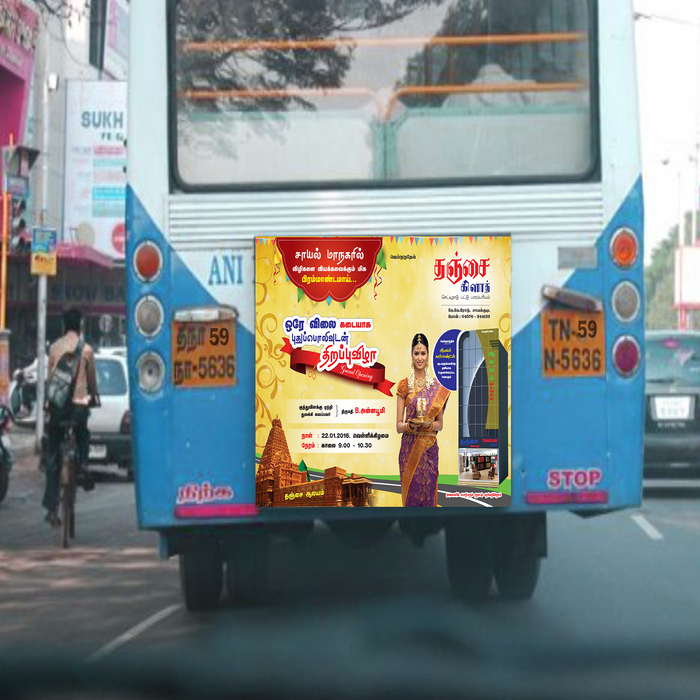n: (164, 306, 239, 390), (539, 311, 606, 380)
